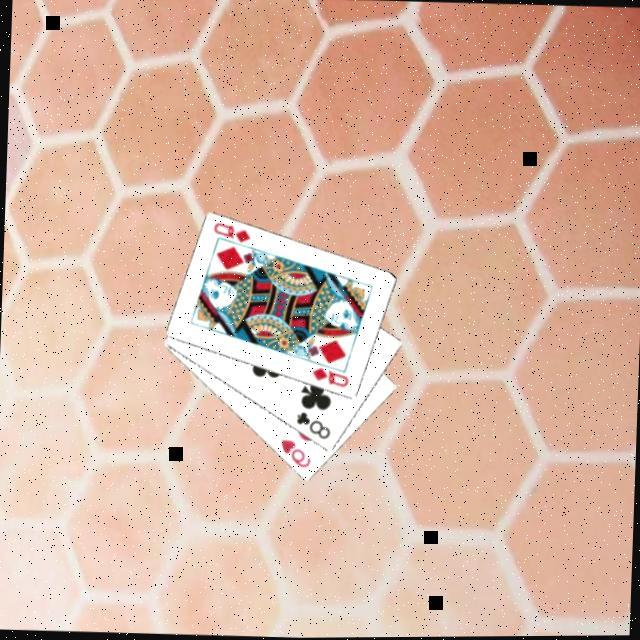6H: (278, 434, 315, 469)
8C: (293, 408, 335, 441)
QD: (309, 362, 352, 388), (211, 218, 254, 244)
